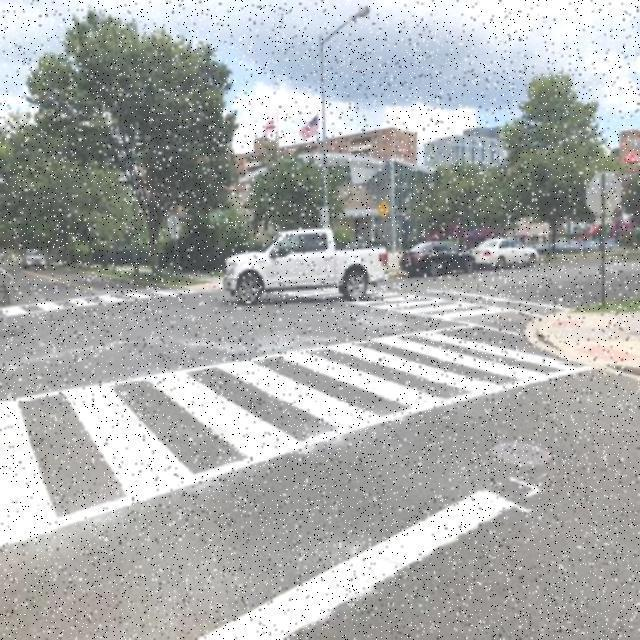Pedestrian crosswalk: (2, 325, 576, 565), (323, 285, 537, 334), (0, 274, 174, 332)
